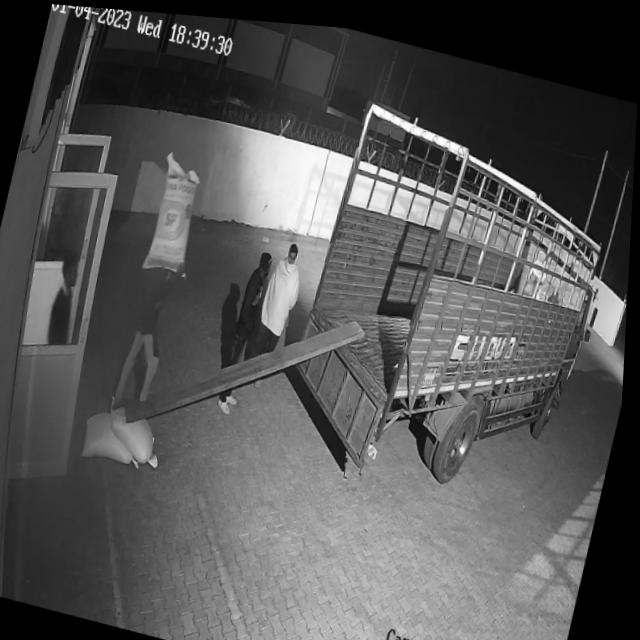sack: (142, 144, 208, 276), (106, 400, 173, 467), (82, 402, 146, 466)
